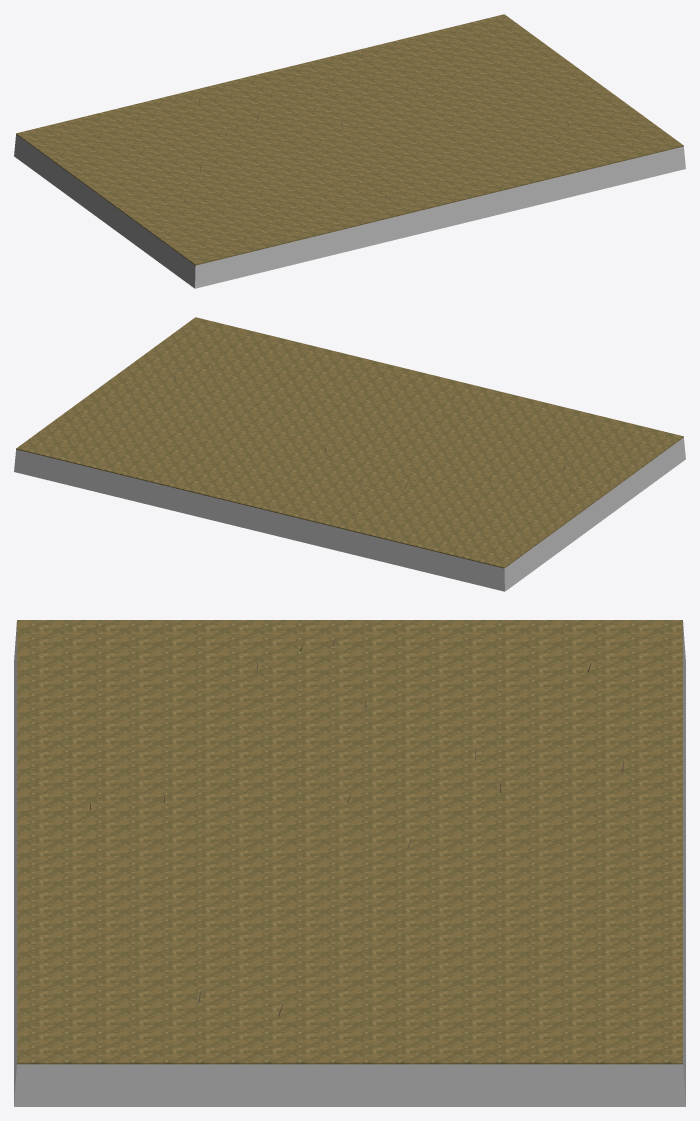
The model's file is SM_Art_Authored_HoldingBattlefield_11000x7000x500_0_2.gltf.
3 views of the same model, one above another, from view 1: azimuth 30°, elevation 25°; view 2: azimuth 150°, elevation 25°; view 3: azimuth 270°, elevation 25° (orthographic). The views are drawn at different scales.
Parts seen in each view (by area): view 1: SM_Art_Authored_HoldingBattlefield_11000x7000x500_0_2; view 2: SM_Art_Authored_HoldingBattlefield_11000x7000x500_0_2; view 3: SM_Art_Authored_HoldingBattlefield_11000x7000x500_0_2.
Part boxes in pixels (<box>): SM_Art_Authored_HoldingBattlefield_11000x7000x500_0_2: <box>14,14,685,288</box>; SM_Art_Authored_HoldingBattlefield_11000x7000x500_0_2: <box>14,317,685,591</box>; SM_Art_Authored_HoldingBattlefield_11000x7000x500_0_2: <box>14,620,685,1106</box>.
Bounding box in the file's own units: 111 × 6.51 × 70.6.
